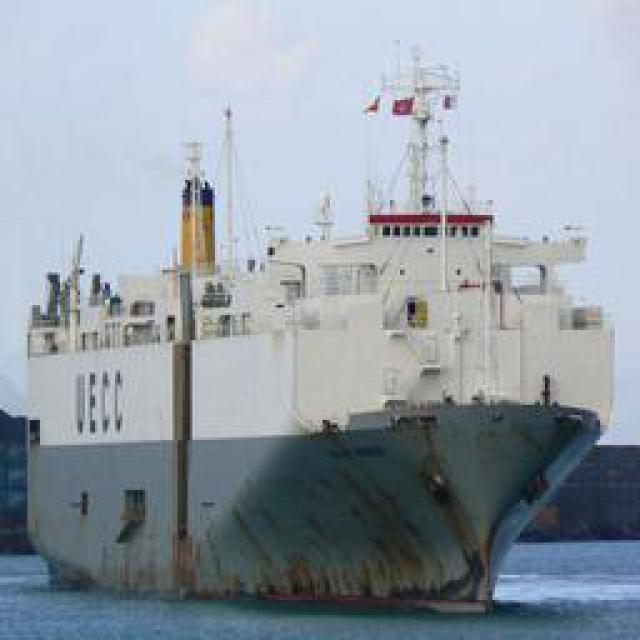Ship: (25, 1, 626, 624)
